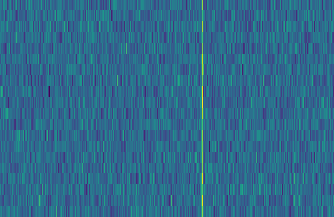signal: (197, 0, 207, 217)
